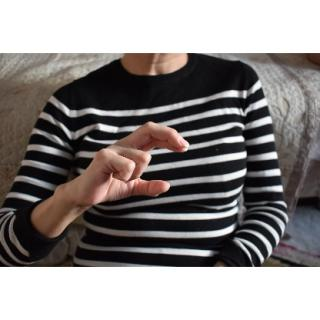DHELL: (76, 115, 194, 219)
